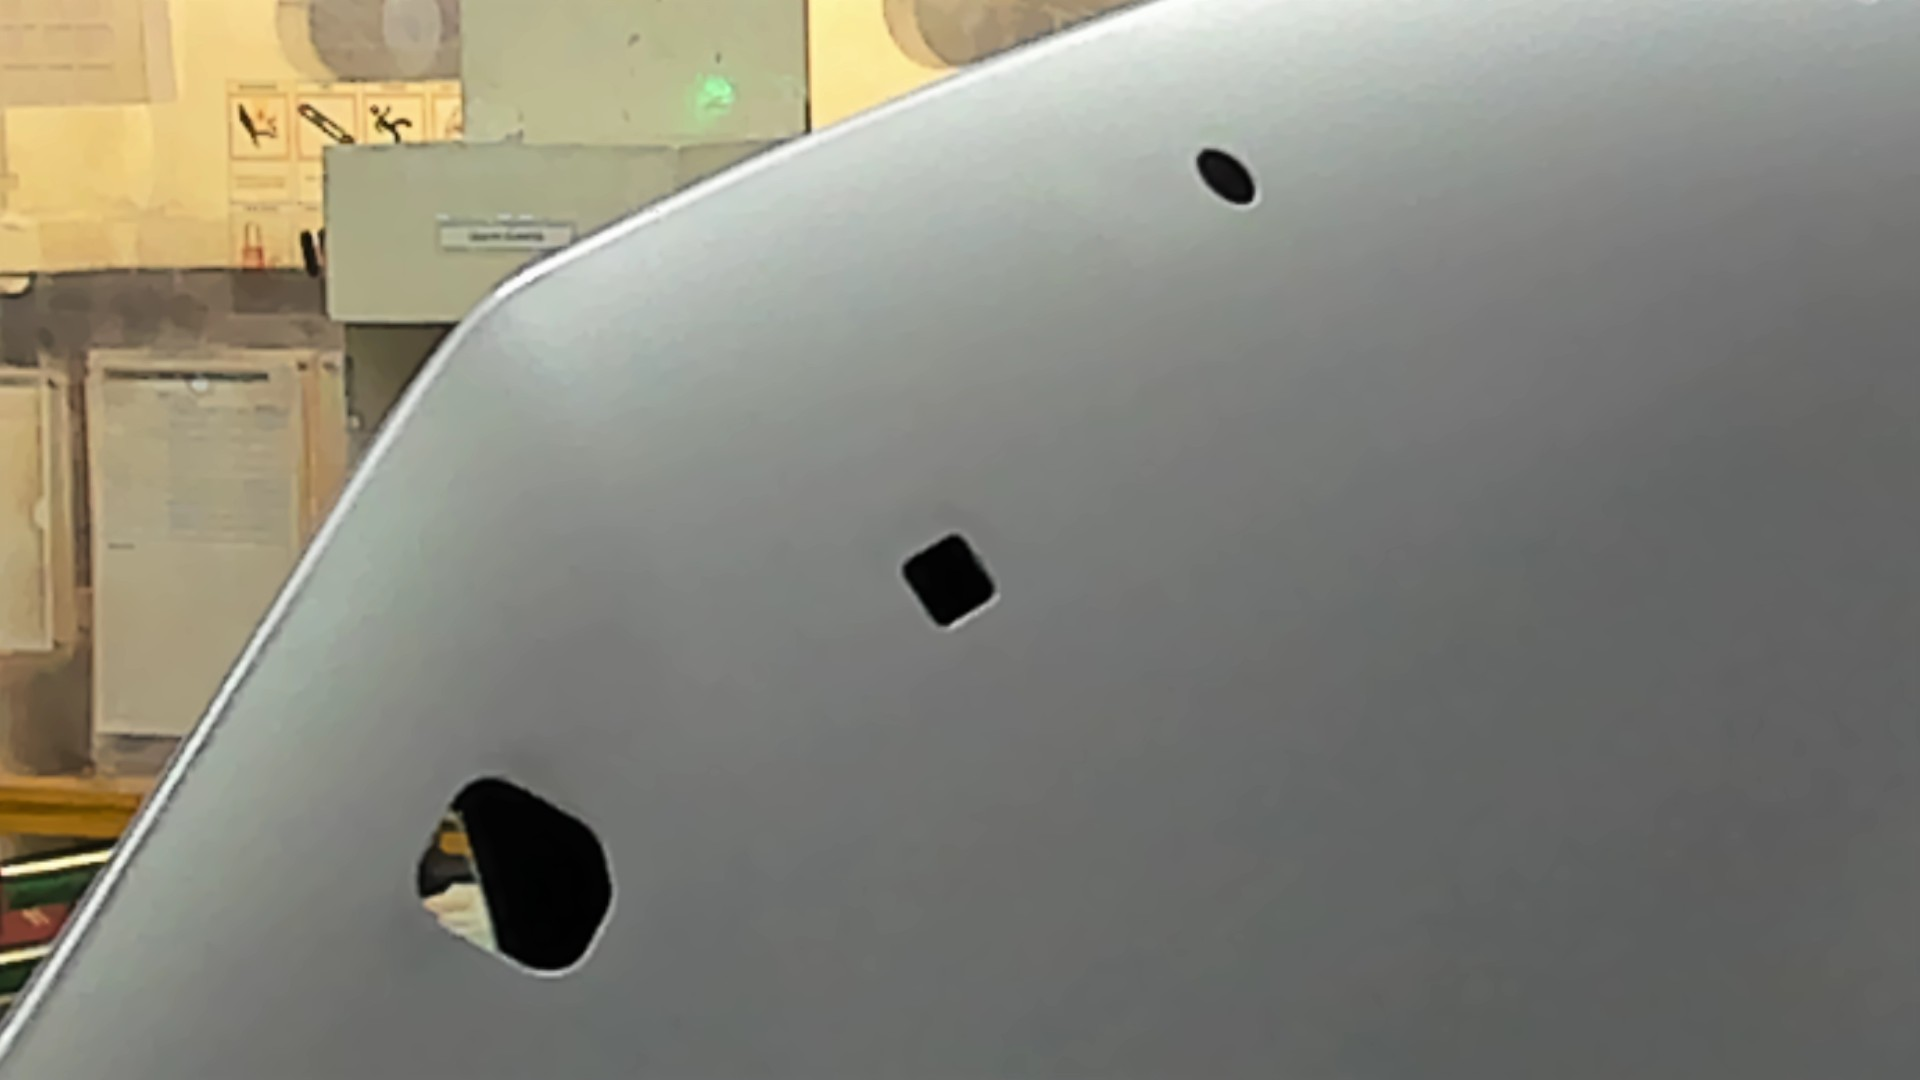chico: (1174, 129, 1284, 227)
grande: (373, 764, 645, 990)
mediano: (876, 505, 1044, 663)
